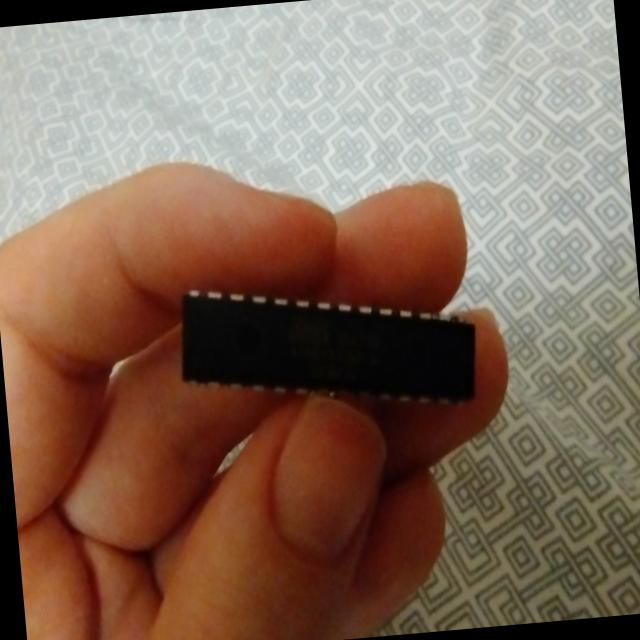atmega: (171, 262, 484, 432)
